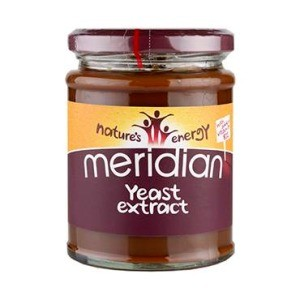yeast spread_brain food: (73, 85, 230, 230)
